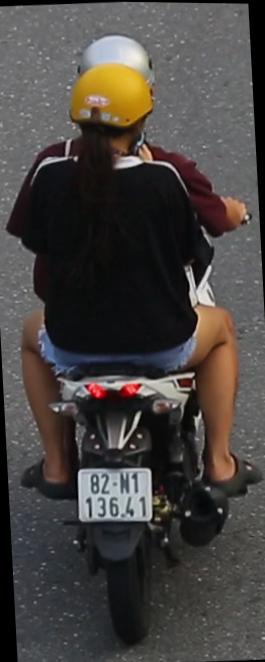LP: (73, 456, 164, 536)
helmet: (63, 63, 154, 160), (77, 30, 158, 85)
